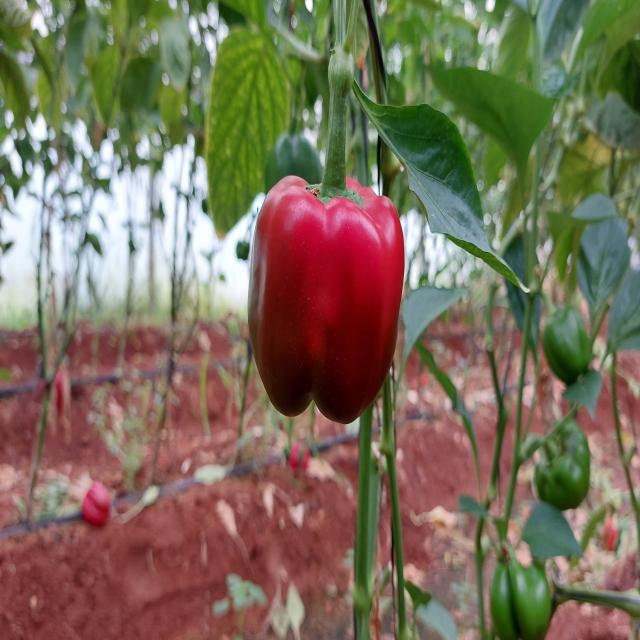Red-Ready-to-Harvest: (240, 167, 412, 430)
